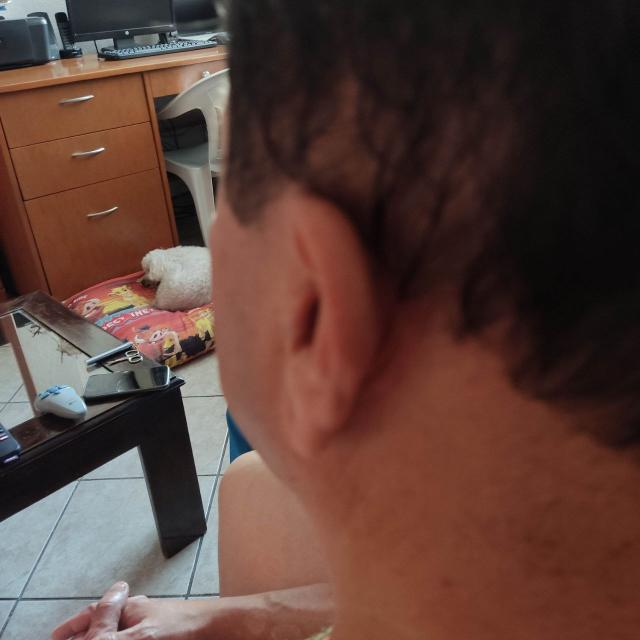ear: (281, 191, 385, 458)
